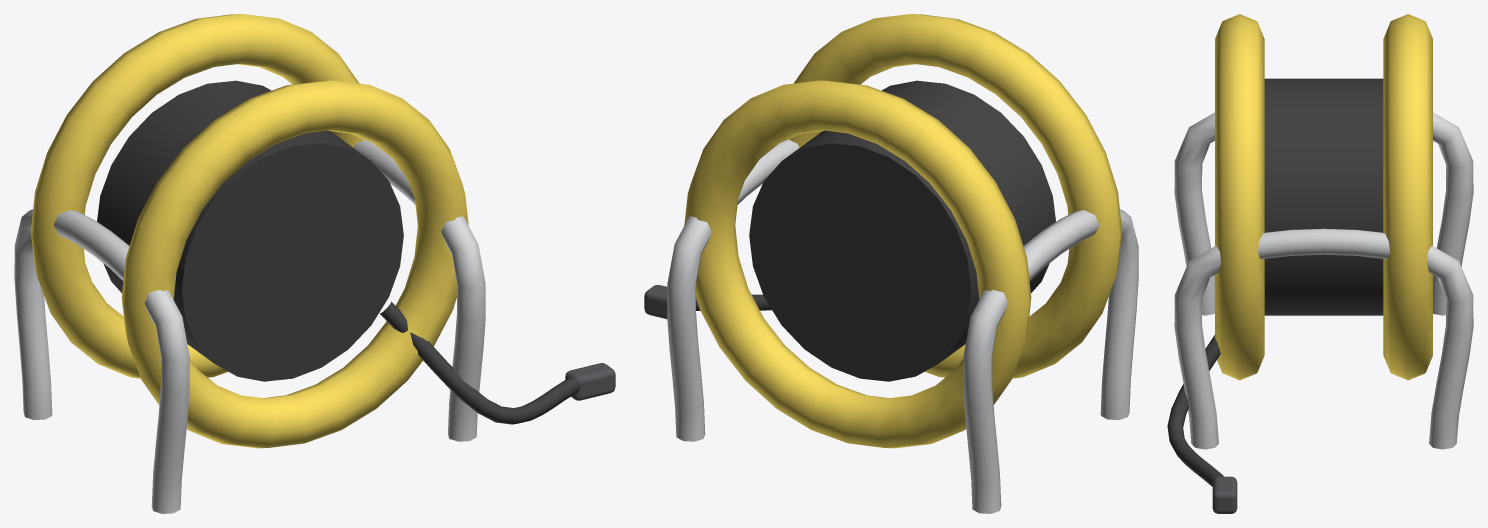
Rendered from paranormal-investigation-house-cable-reel-aebe4f17__26812.glb.
3 views of the same model, side by side, from view 1: azimuth 30°, elevation 25°; view 2: azimuth 150°, elevation 25°; view 3: azimuth 270°, elevation 25° (orthographic). The views are drawn at different scales.
Visible parts, largest first — view 1: cable-reel; view 2: cable-reel; view 3: cable-reel.
Boxes of the visible parts, x1=… form: cable-reel: x1=14, y1=14, x2=615, y2=513; cable-reel: x1=644, y1=14, x2=1138, y2=513; cable-reel: x1=1167, y1=14, x2=1473, y2=513.
Bounding box in the file's own units: 0.5175 × 0.385 × 0.309.
